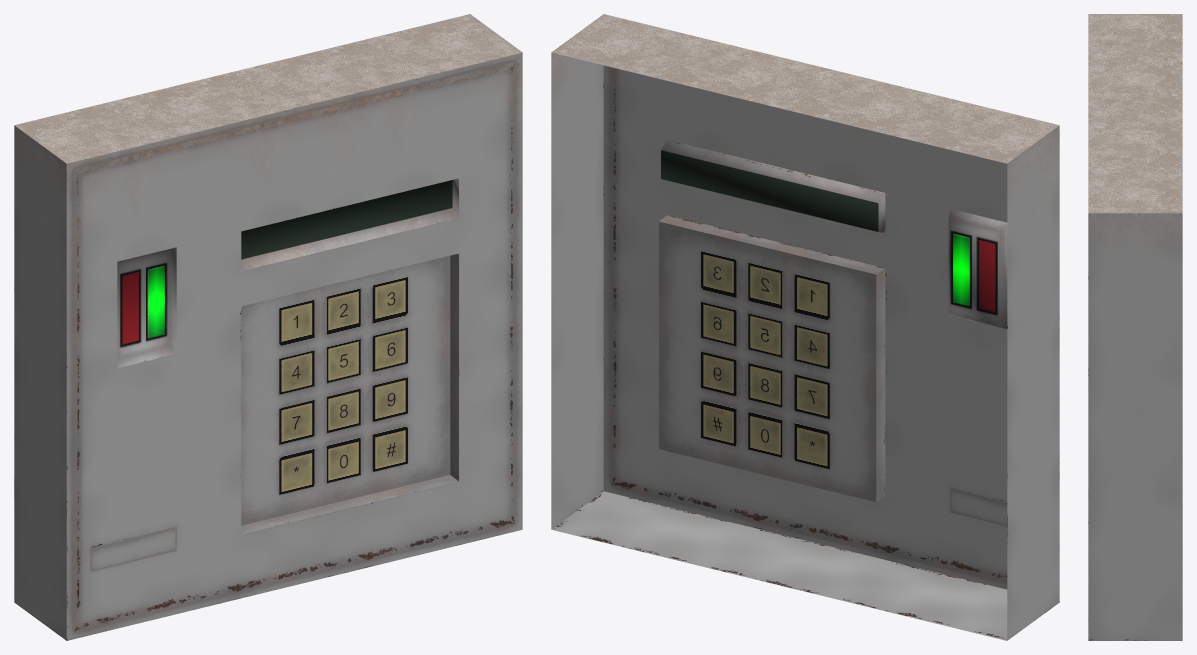
File: SM_Keypad.fbx
3 views of the same model, side by side, from view 1: azimuth 30°, elevation 25°; view 2: azimuth 150°, elevation 25°; view 3: azimuth 270°, elevation 25° (orthographic). The views are drawn at different scales.
Visible parts, largest first — view 1: SM_Keypad; view 2: SM_Keypad; view 3: SM_Keypad.
Boxes of the visible parts, x1,y1,x2,y2 form: SM_Keypad: [14, 14, 522, 640]; SM_Keypad: [551, 14, 1059, 640]; SM_Keypad: [1088, 14, 1182, 640].
Bounding box in the file's own units: 30 × 6 × 30.
Materials: 1 (1 with a texture image).
